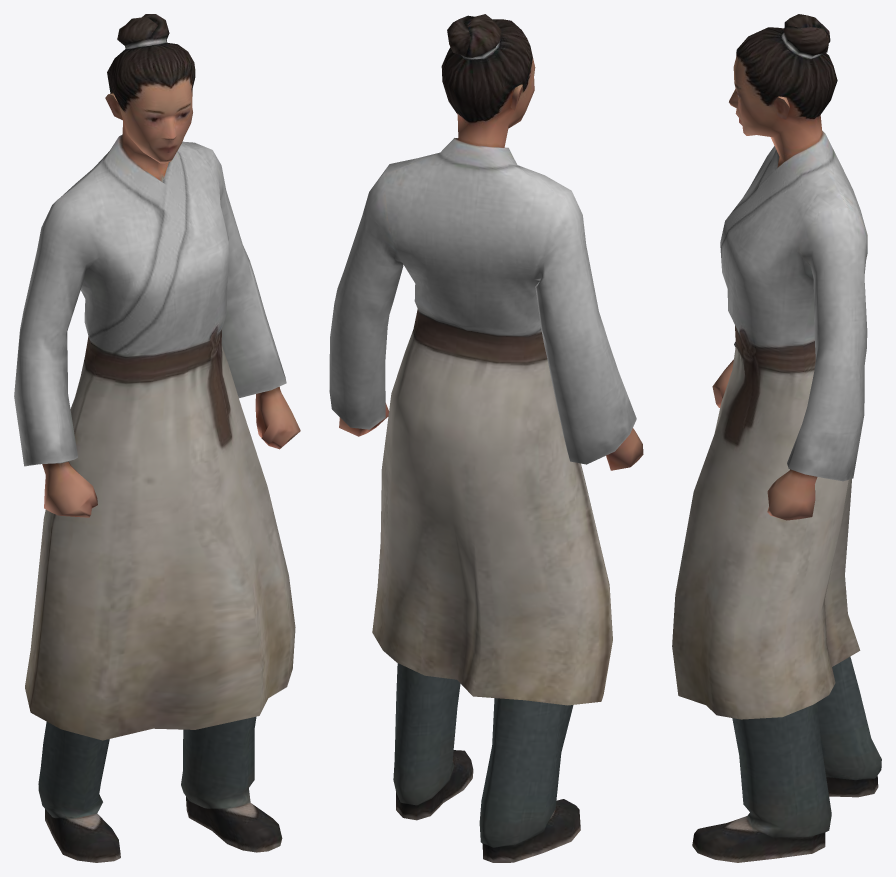
The model's file is body-female-base.glb.
3 renders of one model, left to right at view 1: azimuth 30°, elevation 25°; view 2: azimuth 150°, elevation 25°; view 3: azimuth 270°, elevation 25°, orthographic.
Bounding box in the file's own units: 0.7492 × 2.11 × 0.4996.
1 material, 1 textured.
